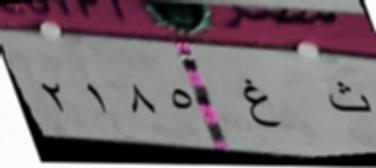1: (82, 76, 112, 120)
2: (39, 76, 72, 116)
5: (170, 86, 195, 113)
8: (125, 80, 158, 117)
ghayn: (239, 69, 283, 135)
thaa: (316, 79, 374, 120)
